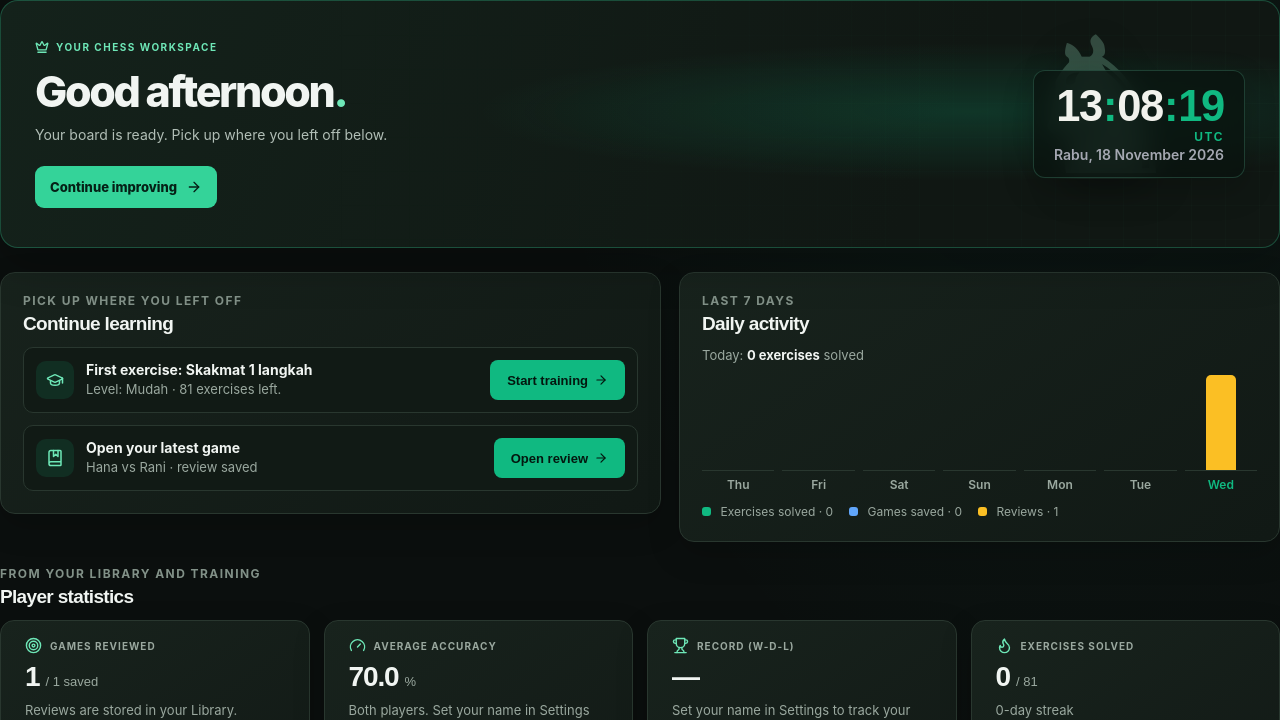
Test: Dashboard: Continue learning › opens the latest saved game in Game Review with its saved review
Expected: the text "Open your latest game" is shown, top-left (86, 439), bottom-right (240, 456)
Click the button "Open review". click: point(559, 458)
box: top-left (494, 438), bottom-right (625, 478)
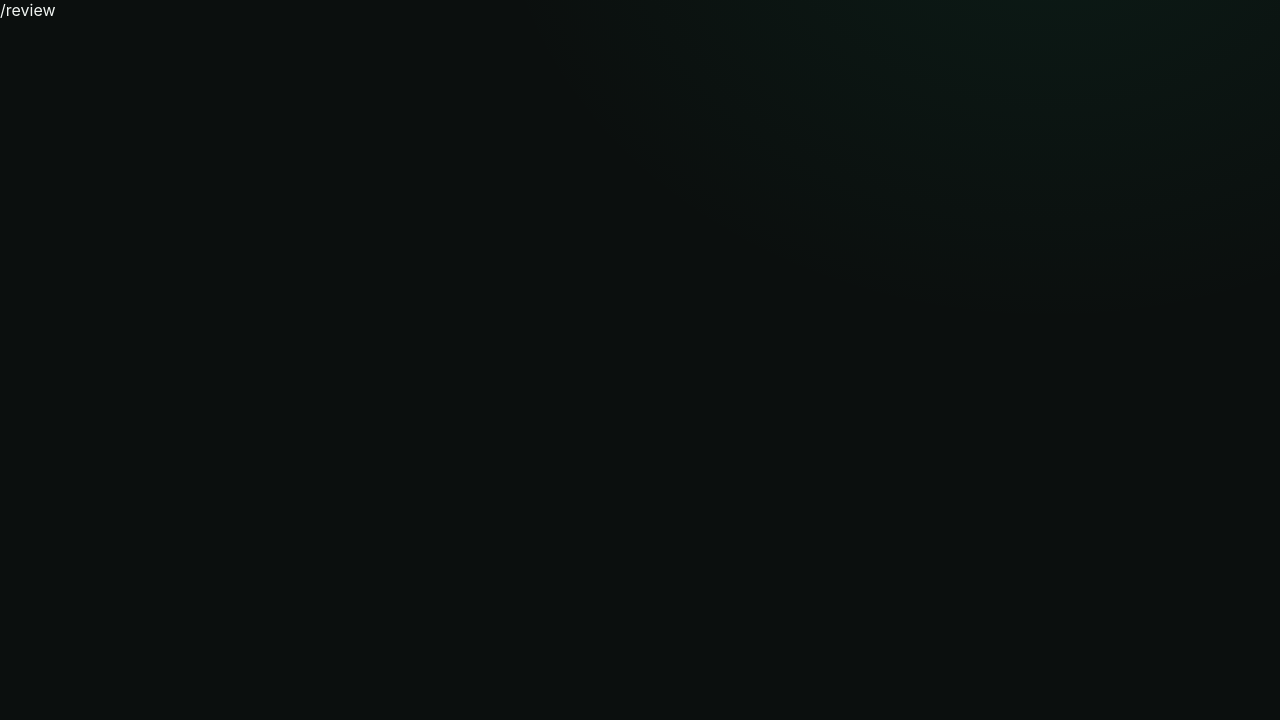
Result: the text with test id "location" reads "/review" at top-left (0, 0), bottom-right (56, 20)
